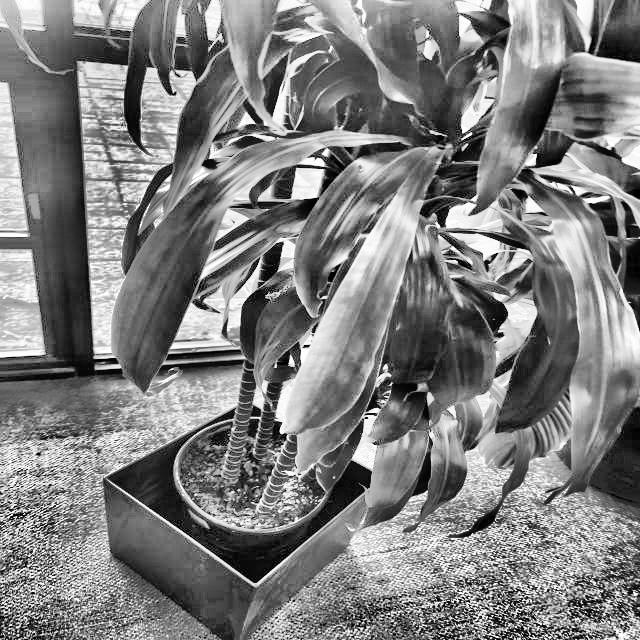plants: (166, 5, 622, 512)
